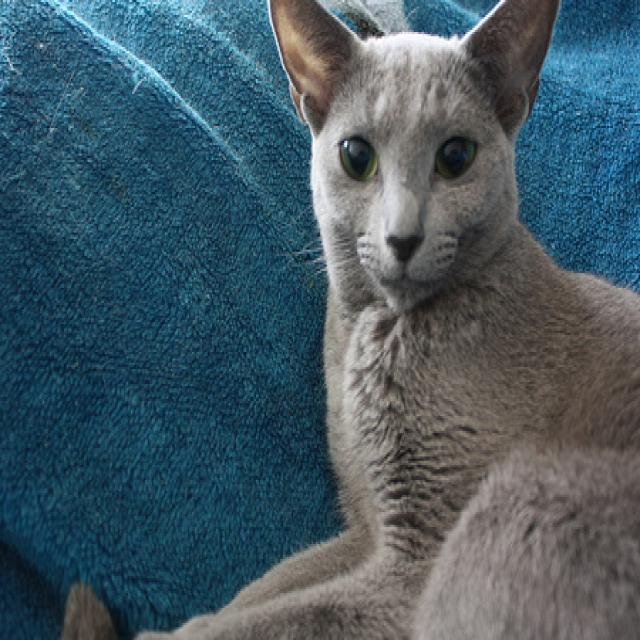Russian Blue: (52, 0, 640, 640)
